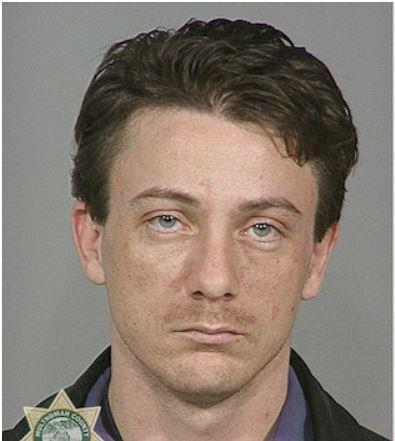Drunk: (108, 99, 301, 392)
